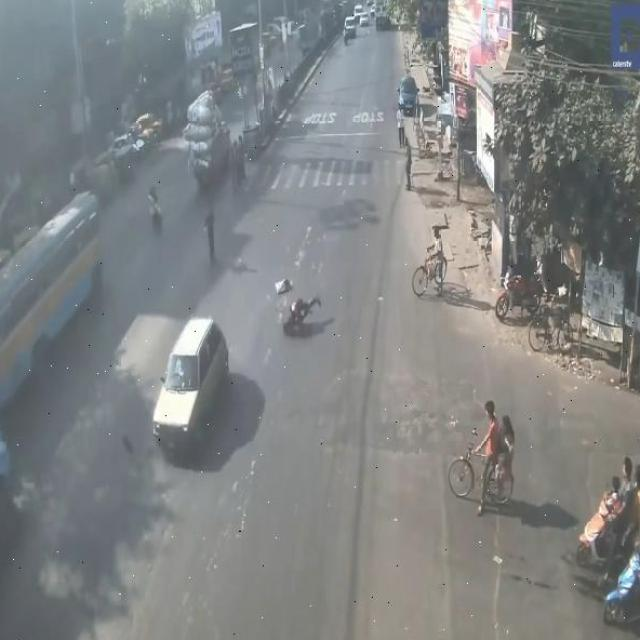accident: (275, 256, 325, 373)
